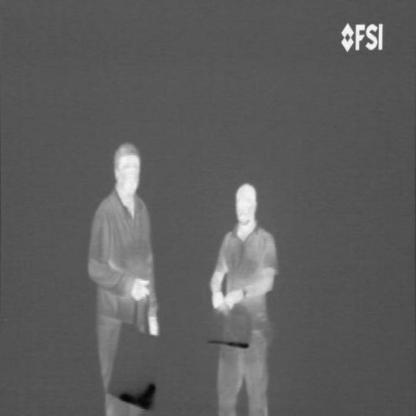weapon: (117, 382, 158, 410)
